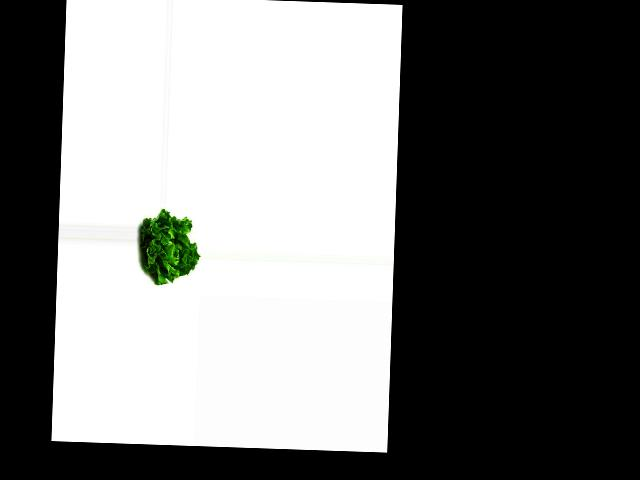lettuce: (136, 209, 201, 284)
